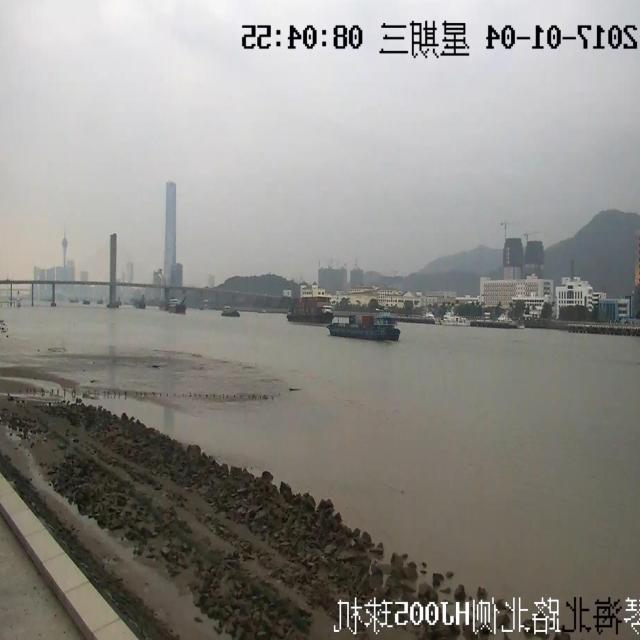cargoship: (326, 280, 403, 342)
